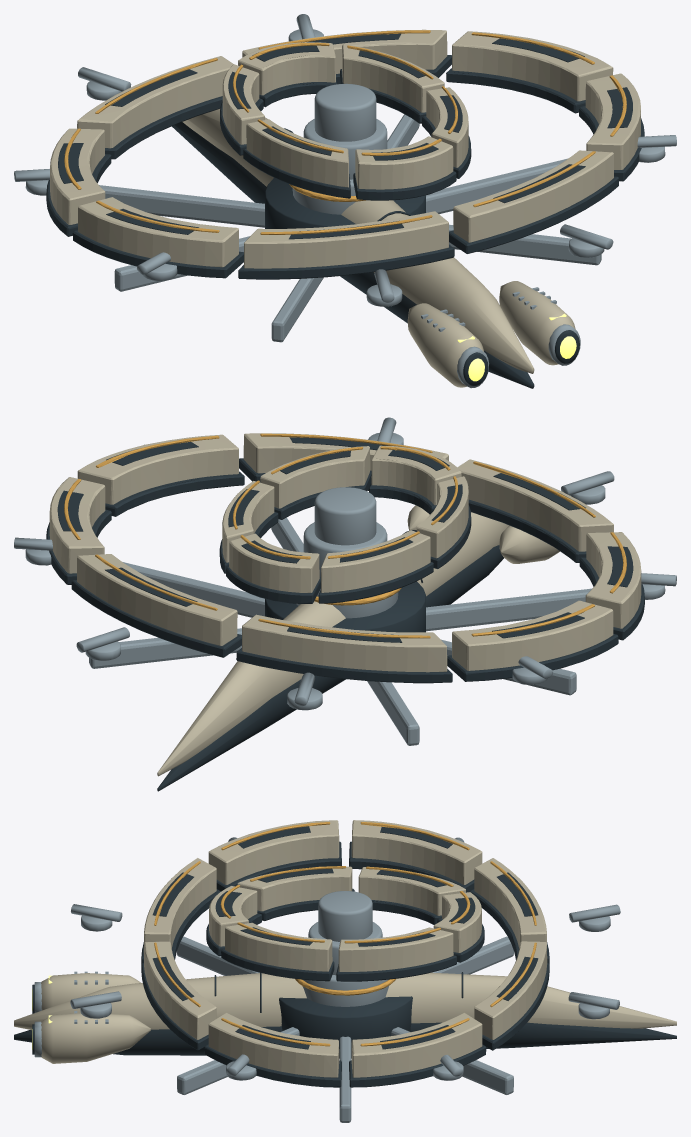
The model's file is boss-6-p3.glb.
The picture shows the model from 3 angles, top to bottom: view 1: azimuth 30°, elevation 25°; view 2: azimuth 150°, elevation 25°; view 3: azimuth 270°, elevation 25°; orthographic projection. The views are drawn at different scales.
Parts seen in each view (by area): view 1: SM_Rotor0, SM_Hull, SM_Rotor1, SM_Weapon_Right, SM_Engine_Left, SM_Engine_Right, SM_CoreCannon_2, SM_CoreCannon_1, SM_CoreCannon_0; view 2: SM_Rotor0, SM_Hull, SM_Rotor1, SM_Weapon_Right, SM_CoreCannon_2, SM_Engine_Left, SM_CoreCannon_1, SM_CoreCannon_0; view 3: SM_Rotor0, SM_Hull, SM_Rotor1, SM_Weapon_Right, SM_Engine_Right, SM_CoreCannon_2, SM_Engine_Left, SM_CoreCannon_0, SM_CoreCannon_1.
Part boxes in pixels (<box>): SM_Rotor0: <box>46,29,644,279</box>; SM_Hull: <box>99,109,601,388</box>; SM_Rotor1: <box>220,42,471,200</box>; SM_Weapon_Right: <box>14,14,676,306</box>; SM_Engine_Left: <box>407,303,489,388</box>; SM_Engine_Right: <box>499,281,580,365</box>; SM_CoreCannon_2: <box>314,83,376,141</box>; SM_CoreCannon_1: <box>303,119,387,179</box>; SM_CoreCannon_0: <box>292,179,394,214</box>; SM_Rotor0: <box>46,433,644,683</box>; SM_Hull: <box>89,512,591,791</box>; SM_Rotor1: <box>219,445,471,603</box>; SM_Weapon_Right: <box>14,417,676,710</box>; SM_CoreCannon_2: <box>314,487,376,545</box>; SM_Engine_Left: <box>499,525,559,563</box>; SM_CoreCannon_1: <box>303,522,387,577</box>; SM_CoreCannon_0: <box>296,589,398,618</box>; SM_Rotor0: <box>141,820,549,1087</box>; SM_Hull: <box>14,936,676,1122</box>; SM_Rotor1: <box>206,866,484,981</box>; SM_Weapon_Right: <box>70,837,620,1080</box>; SM_Engine_Right: <box>32,1011,150,1063</box>; SM_CoreCannon_2: <box>318,891,372,941</box>; SM_Engine_Left: <box>32,971,140,1013</box>; SM_CoreCannon_0: <box>302,975,388,1006</box>; SM_CoreCannon_1: <box>308,922,382,975</box>.
Bounding box in the file's own units: 8.68 × 2.57 × 10.2.
